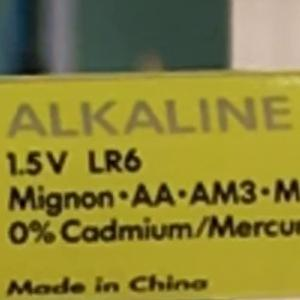keyword: (4, 94, 120, 136), (78, 138, 152, 184)
